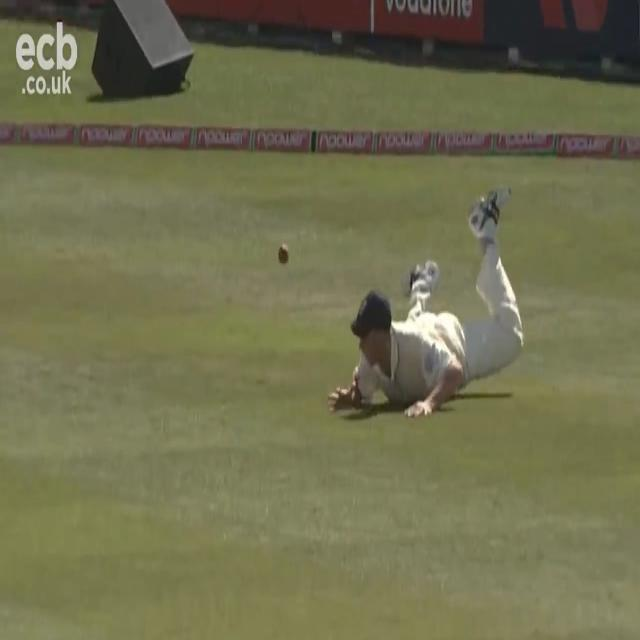ball: (276, 237, 293, 271)
